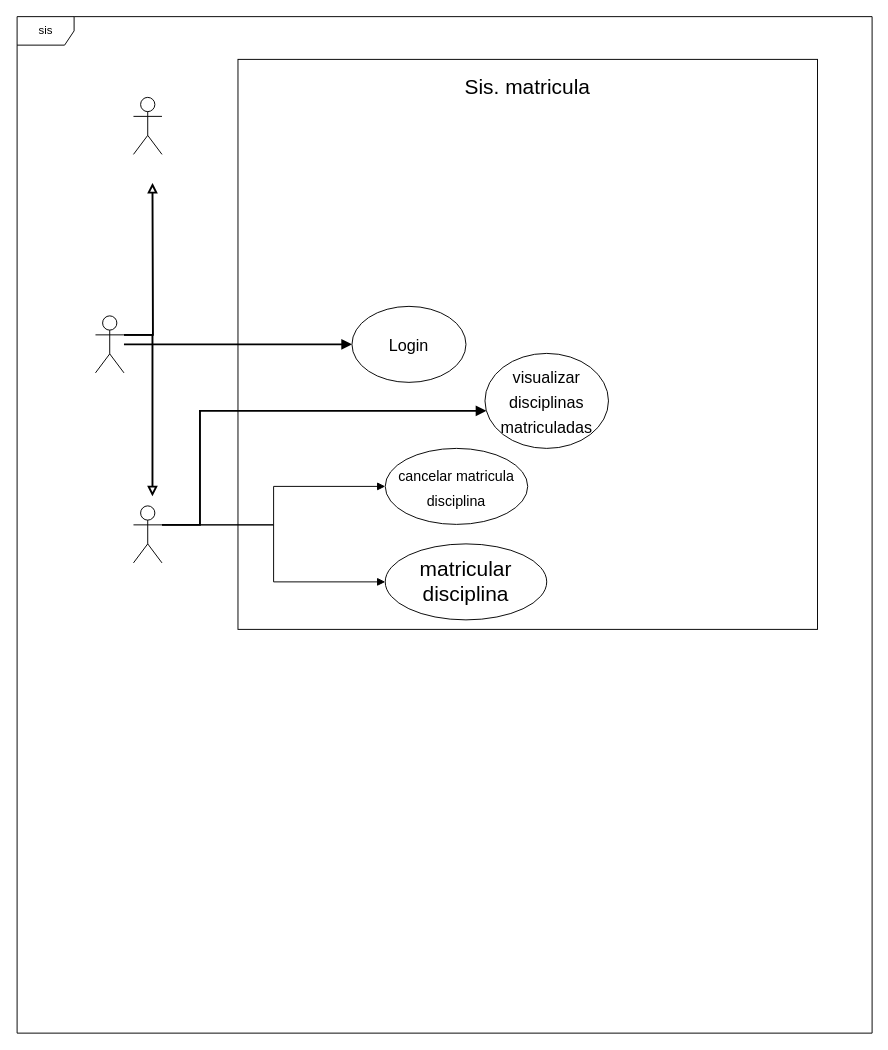
The diagram is 888 pixels wide and 1050 high, and some of its shapes have lost their labels. Here are the shapes that lost their labels. From the top down, the box of each, then its label:
(133, 96, 162, 154): Professor
(95, 315, 124, 373): Usuario
(133, 505, 162, 563): Aluno
